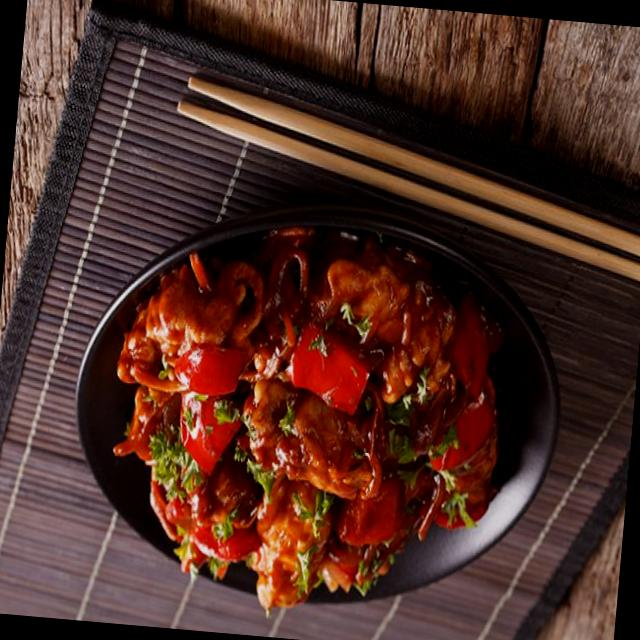suon xao: (113, 228, 503, 611)
